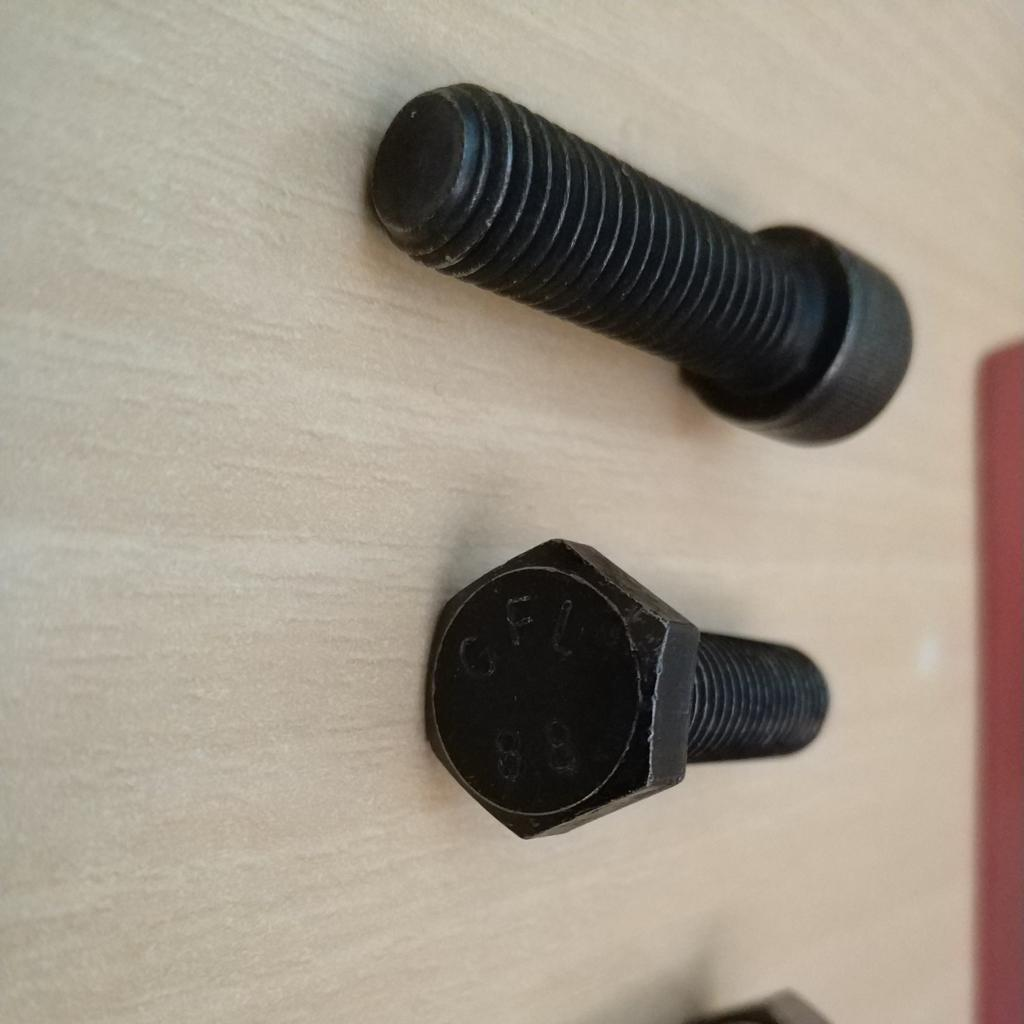screwtype1black: (358, 81, 940, 456)
screwtype2black: (421, 533, 834, 845)
